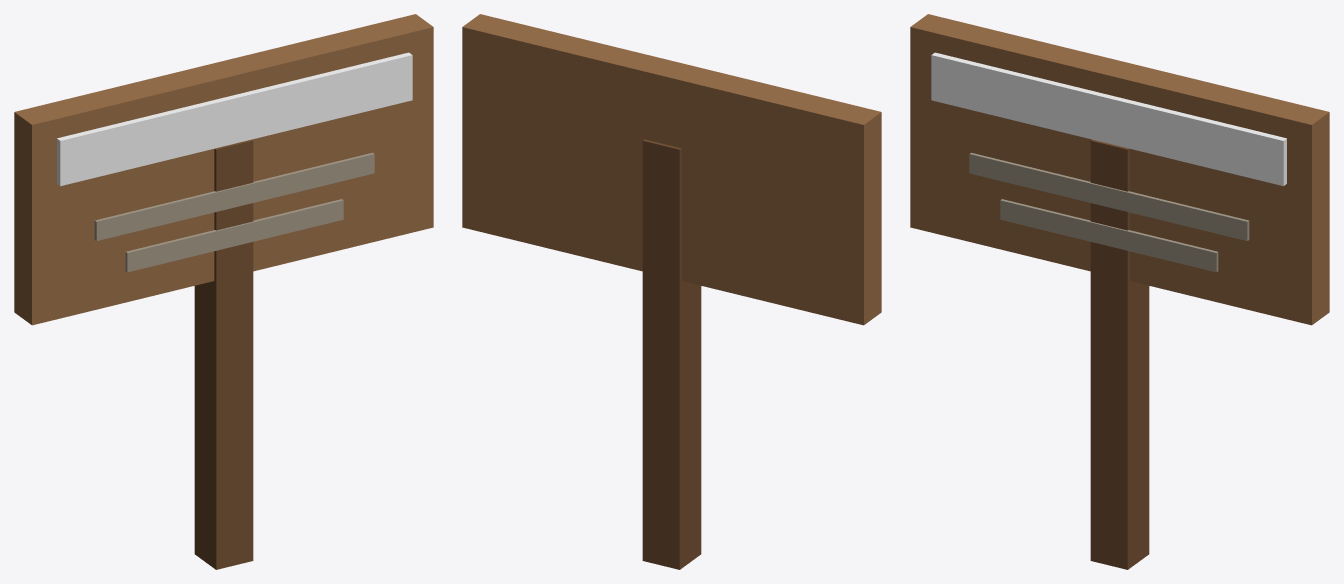
The model's file is prop_village_sign_ph.glb.
3 renders of one model, left to right at view 1: azimuth 30°, elevation 25°; view 2: azimuth 150°, elevation 25°; view 3: azimuth 330°, elevation 25°, orthographic.
Visible parts, largest first — view 1: prop_village_sign; view 2: prop_village_sign; view 3: prop_village_sign.
Part boxes in pixels (x1,y1,x2,y2): prop_village_sign: (14, 14, 433, 569); prop_village_sign: (462, 14, 881, 569); prop_village_sign: (910, 14, 1329, 569).
Size of the model in its own units: 1.3 by 1.51 by 0.13.
